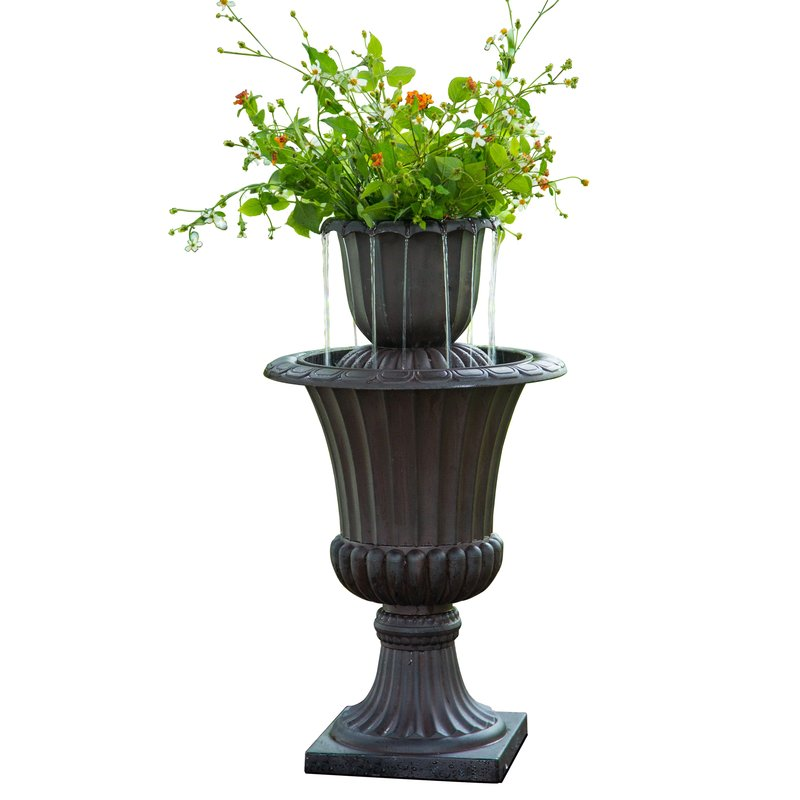flowerpot: (327, 219, 493, 345)
